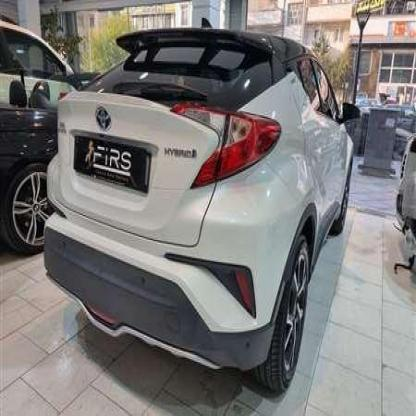Car: (59, 17, 351, 391), (0, 84, 82, 314), (0, 15, 104, 150)
